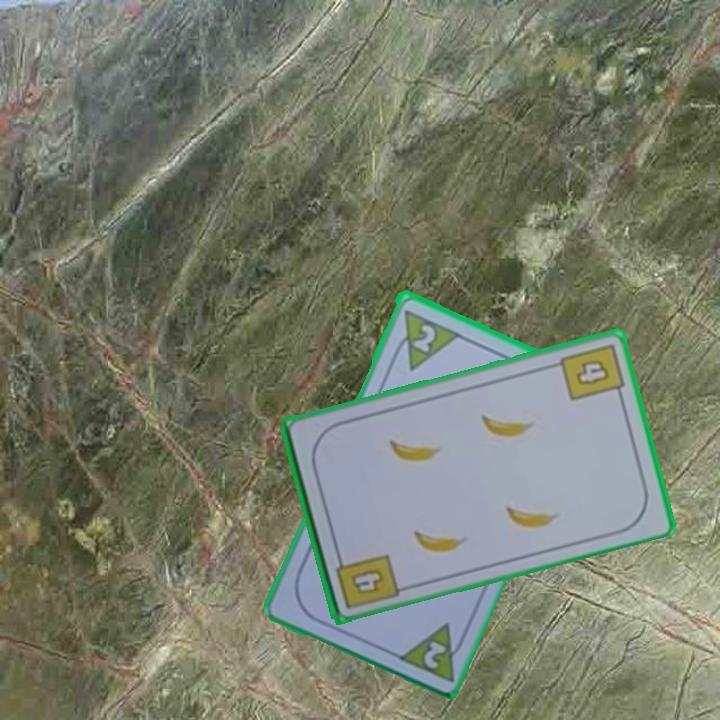2p: (392, 617, 471, 685), (408, 320, 439, 355)
4b: (556, 339, 627, 404), (332, 548, 402, 612)
